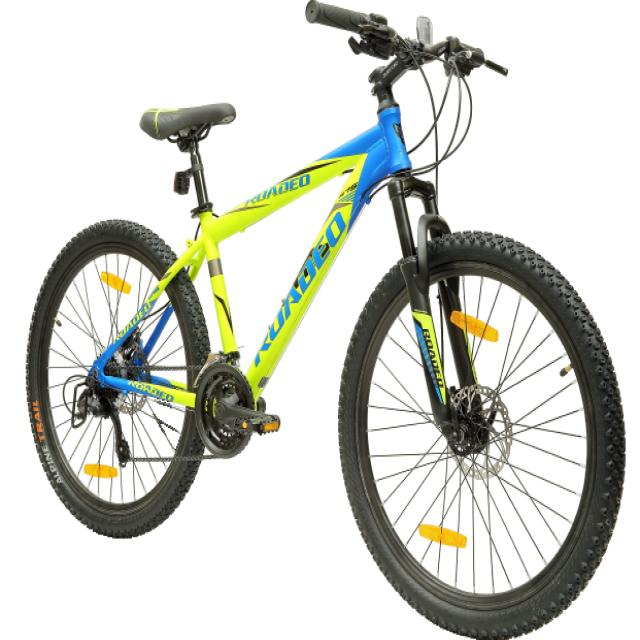bicycle: (26, 0, 625, 637)
